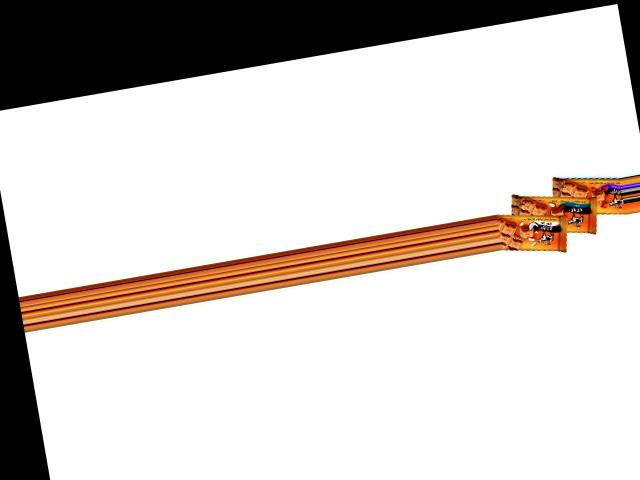chocolate: (544, 170, 626, 228)
